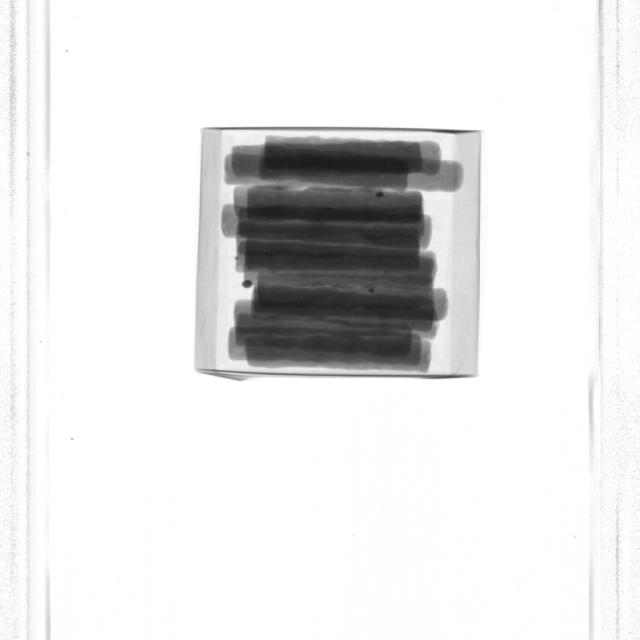ym: (242, 280, 254, 289), (377, 191, 385, 199), (369, 289, 375, 294), (236, 257, 239, 260)
